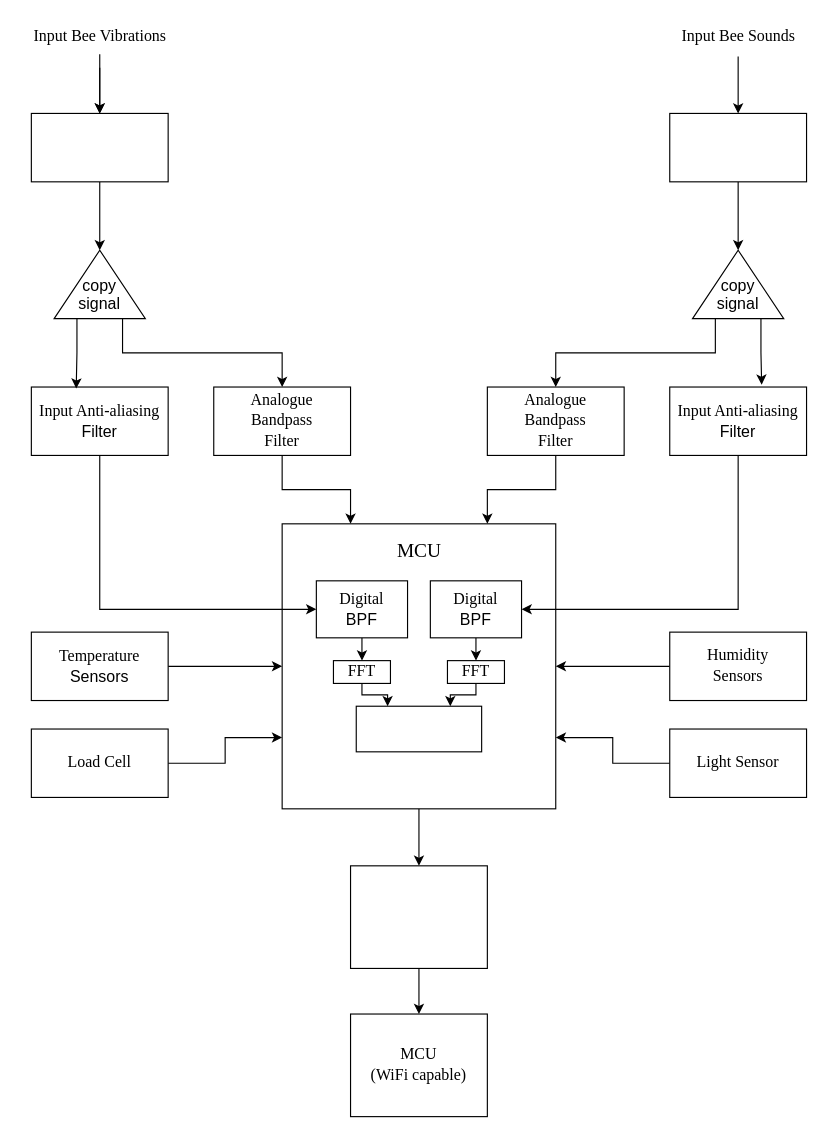
This 827x1137 diagram has some shape labels left out. Each missing label, with the centre of its shape:
"Accelerometer" belongs at pixel 99 147.
"LoRa WAN" belongs at pixel 418 916.
"Microphone" belongs at pixel 738 147.
"Process" belongs at pixel 418 728.
